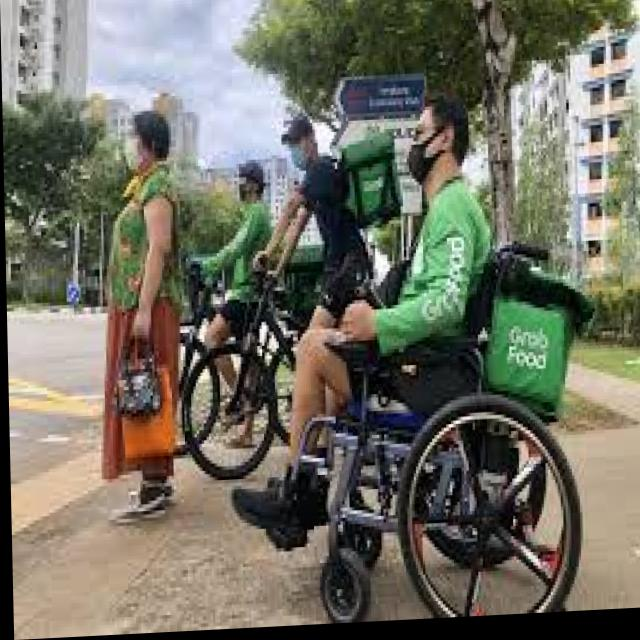wheelchair: (288, 93, 577, 625)
